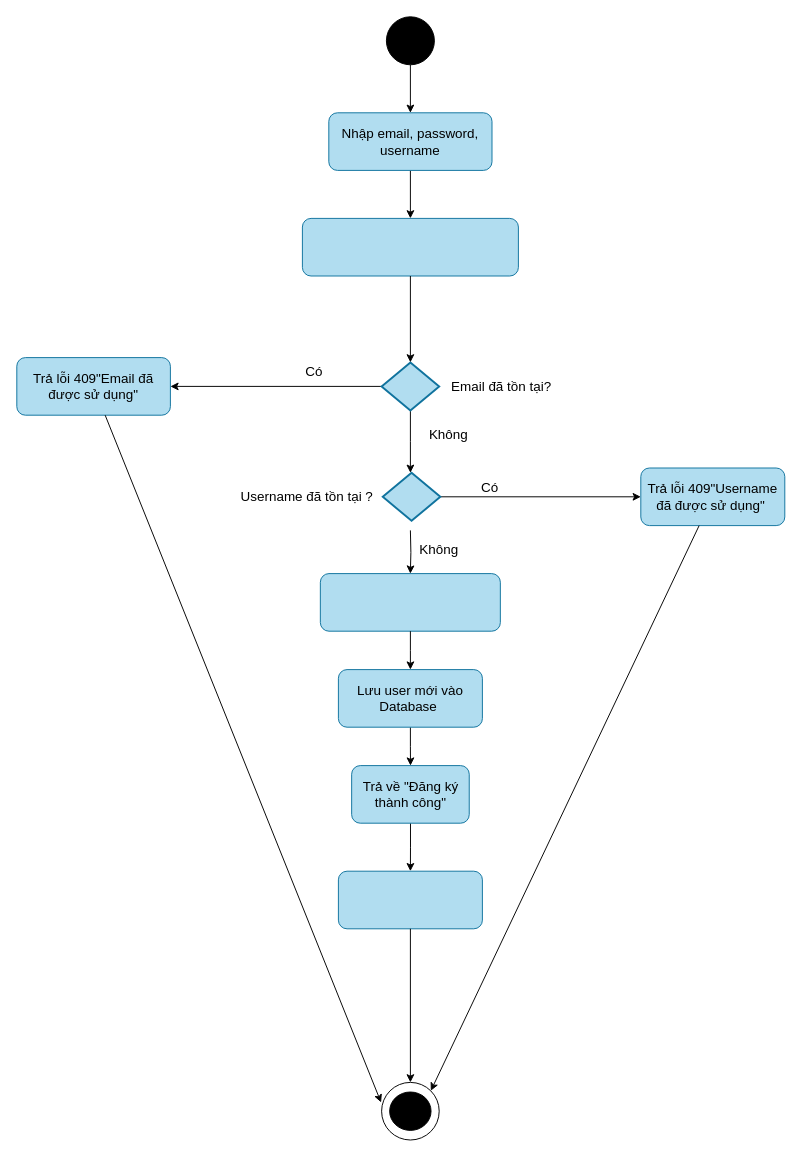
The diagram is 802 pixels wide and 1157 high, and some of its shapes have lost their labels. Each missing label, with the centre of its shape:
"Băm mật khẩu bằng bcrypt" belongs at point (409, 602).
"Chuyển hướng sang trang đăng nhập" belongs at point (409, 899).
"Gửi request POST/auth/register" belongs at point (409, 246).
